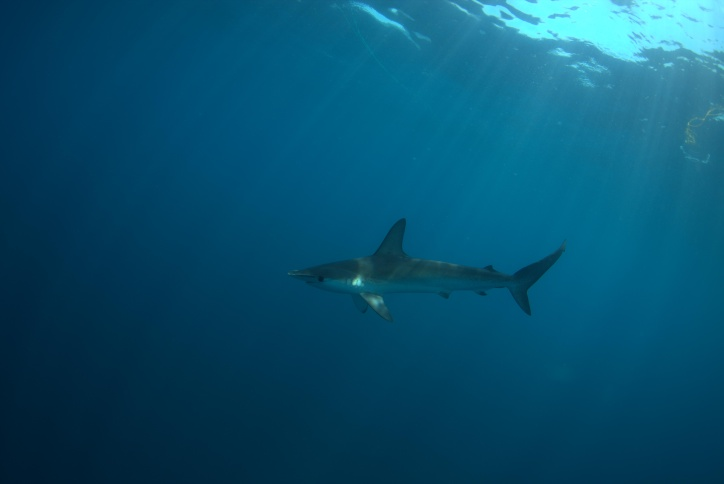Hammer: (281, 201, 587, 330)
